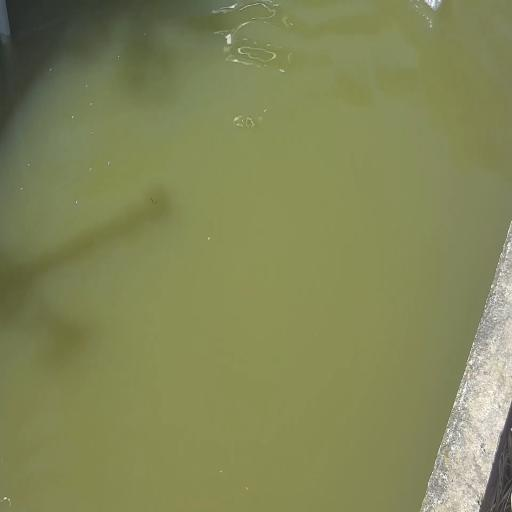plastic: (420, 0, 442, 11)
